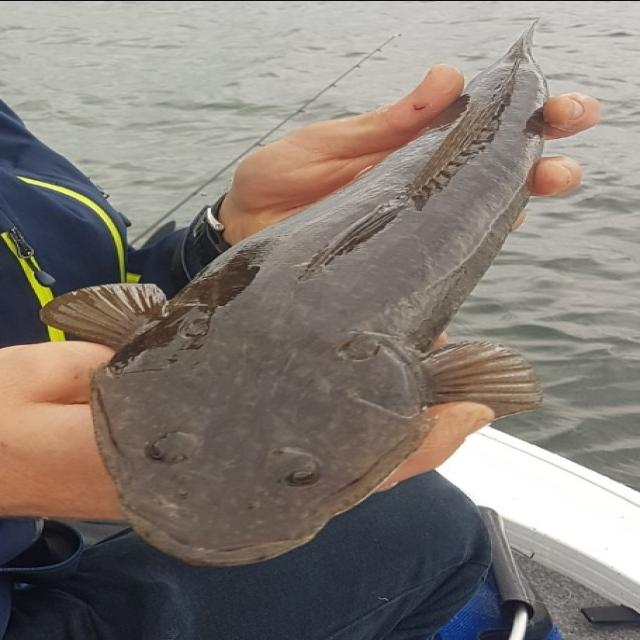Flathead: (38, 14, 574, 585)
